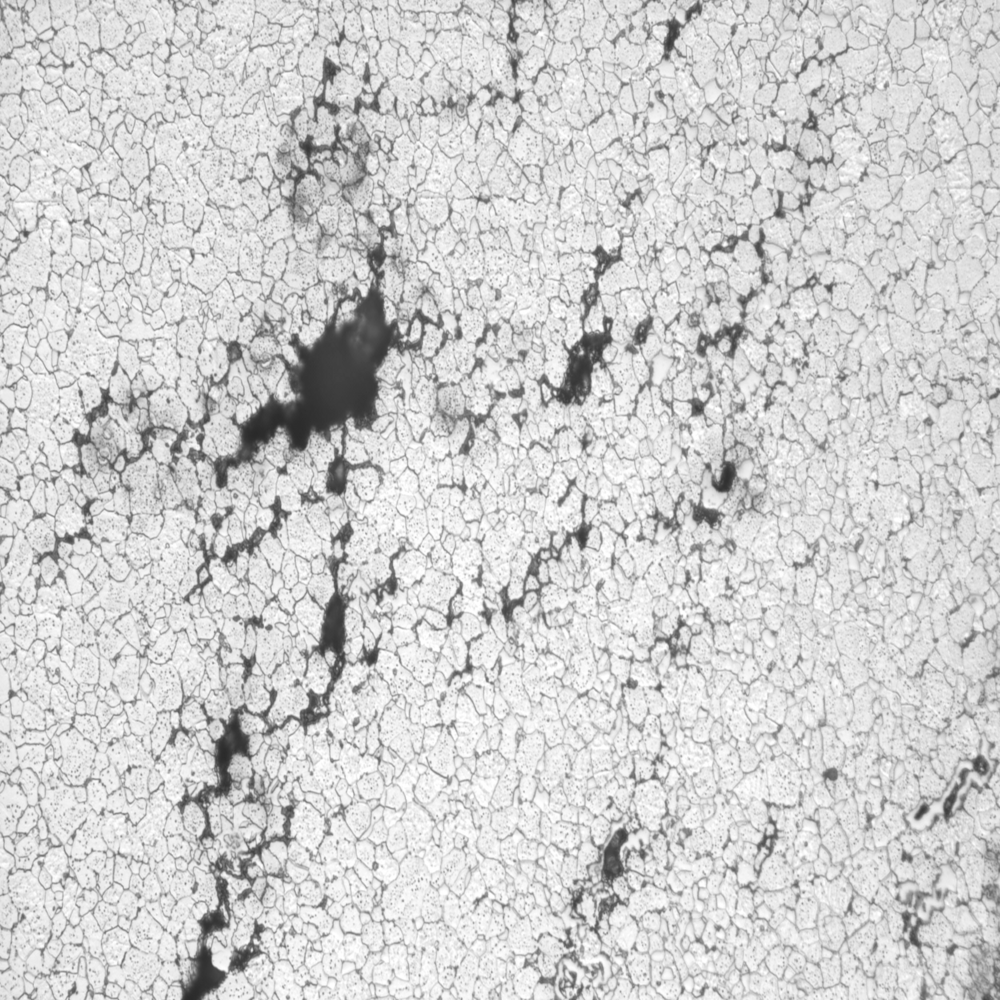crack: (95, 14, 985, 1000)
